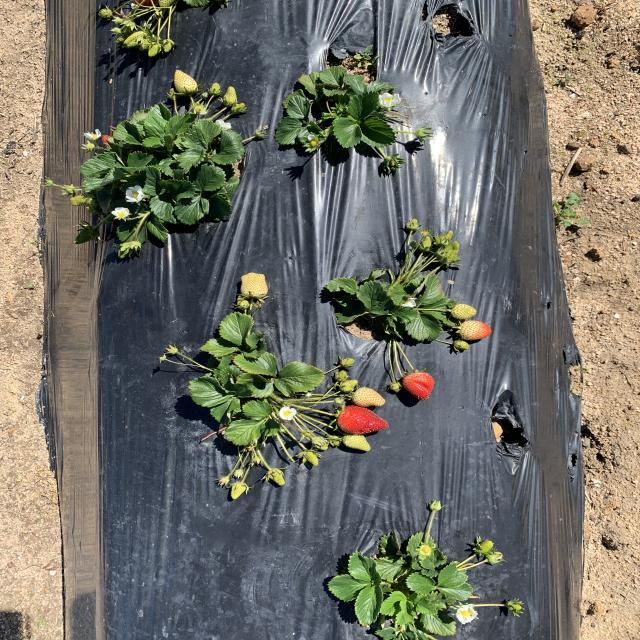unripe: (338, 406, 389, 435), (404, 372, 434, 400)
